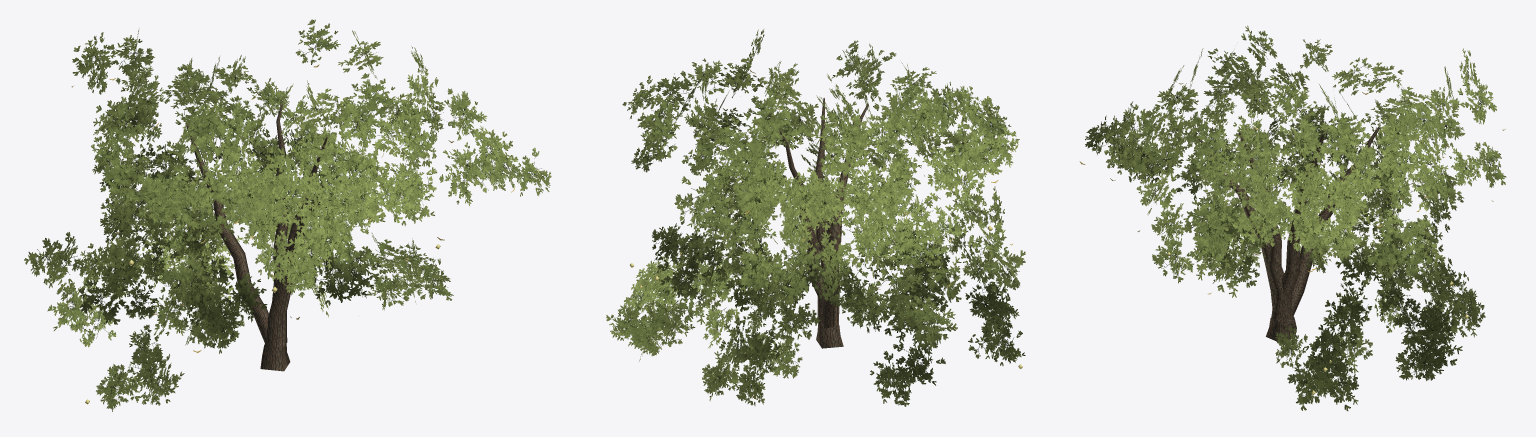
File: old-b.lod1.glb
The picture shows the model from 3 angles, left to right: view 1: azimuth 30°, elevation 25°; view 2: azimuth 150°, elevation 25°; view 3: azimuth 270°, elevation 25°; orthographic projection. The views are drawn at different scales.
Parts seen in each view (by area): view 1: foliage, bark; view 2: foliage, bark; view 3: foliage, bark.
Boxes of the visible parts, x1,y1,x2,y2 form: foliage: [24, 19, 551, 411]; bark: [185, 104, 327, 371]; foliage: [606, 29, 1025, 406]; bark: [779, 98, 868, 348]; foliage: [1085, 25, 1506, 411]; bark: [1197, 127, 1379, 342].
Bounding box in the file's own units: 16.36 × 10 × 15.77.
Materials: 4 (2 with a texture image).
